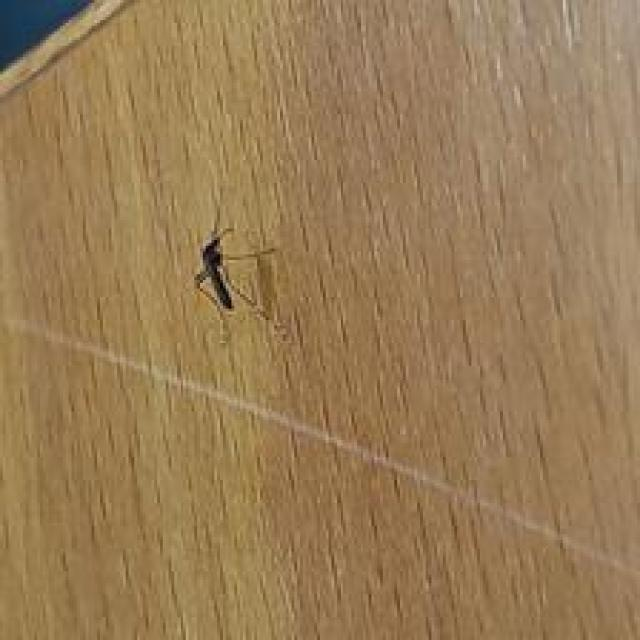Aedes albopictus: (190, 223, 276, 323)
